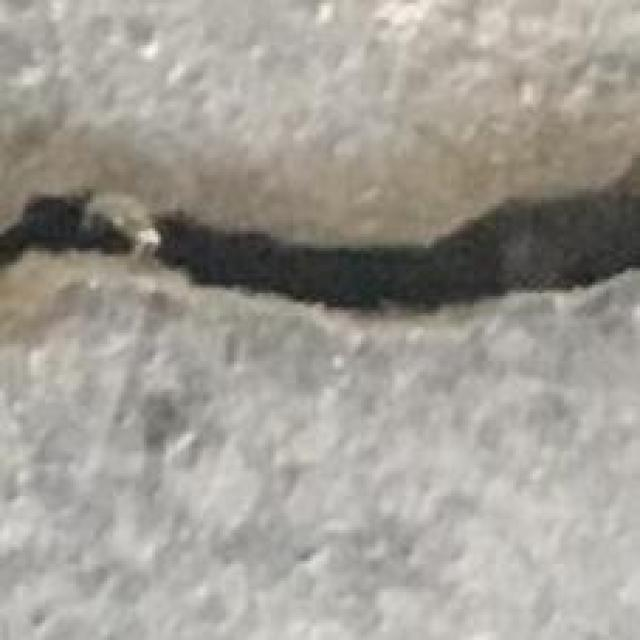horizontal crack: (0, 187, 639, 311)
